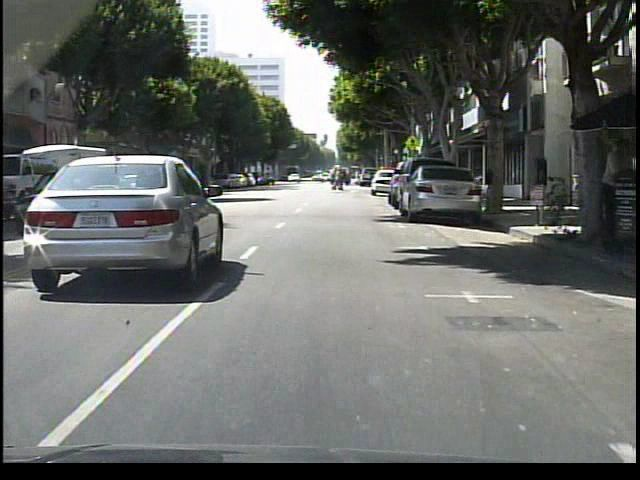person: (593, 136, 636, 241), (330, 168, 346, 193)
